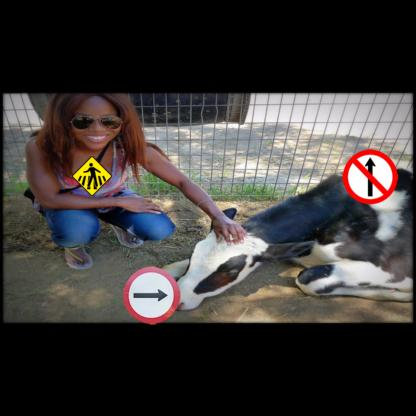A-32b: (71, 155, 113, 197)
R-24a: (123, 266, 180, 324)
R-3: (342, 149, 398, 204)
